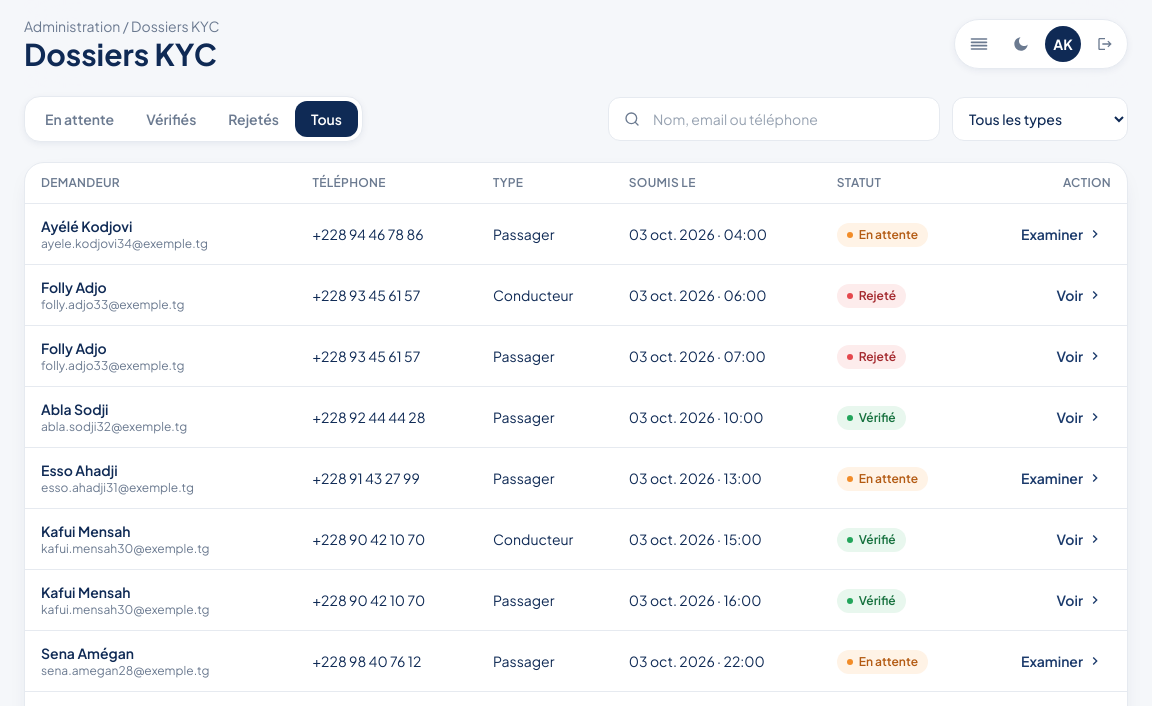
Test case: liste des dossiers KYC › recherche un demandeur par nom (sans tenir compte des accents)
The image size is (1152, 706).
Type "amegan" into the search field named "Rechercher un demandeur".
click(774, 119); type("amegan")  # box [608, 97, 940, 141]
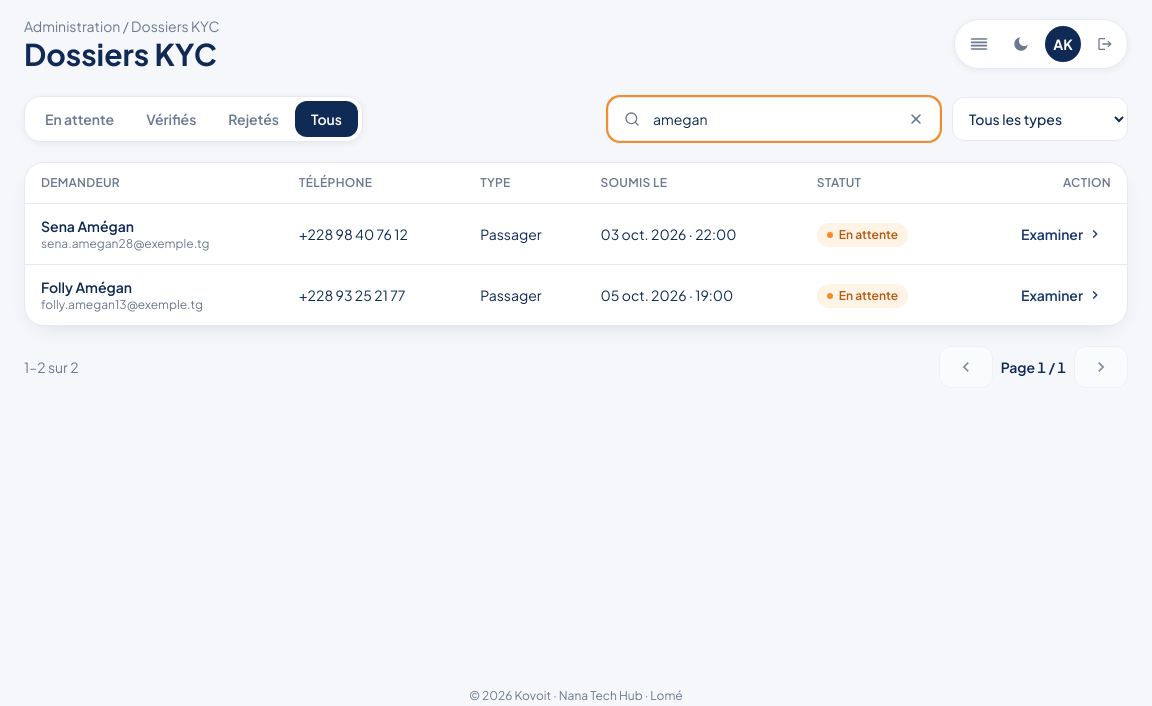
Expected: the row that starts with "Sena" shows "Amégan", [77, 217, 134, 235]
Expected: the row that starts with "Folly" shows "Amégan", [75, 278, 132, 296]
